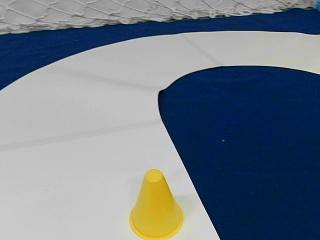cone: (130, 171, 183, 238)
